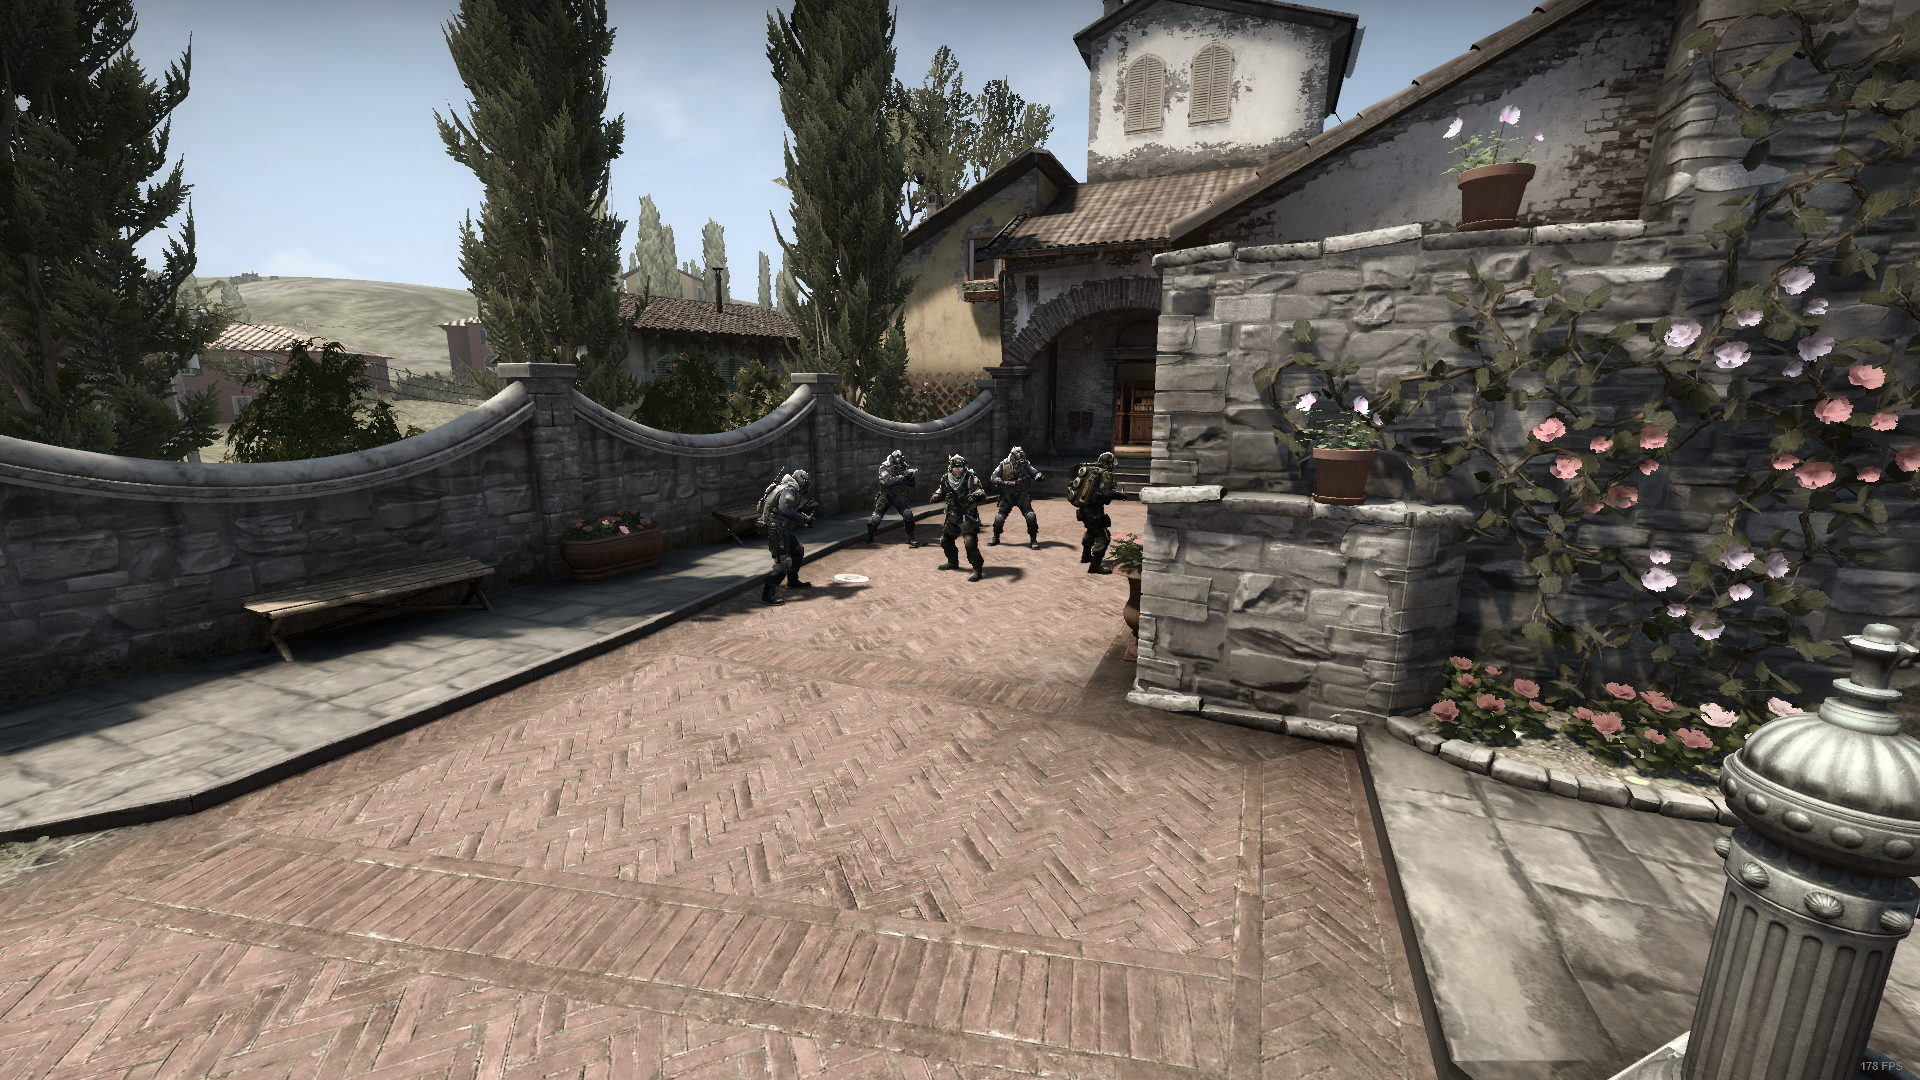ct: (756, 468, 818, 607), (865, 450, 923, 555), (986, 444, 1044, 550)
